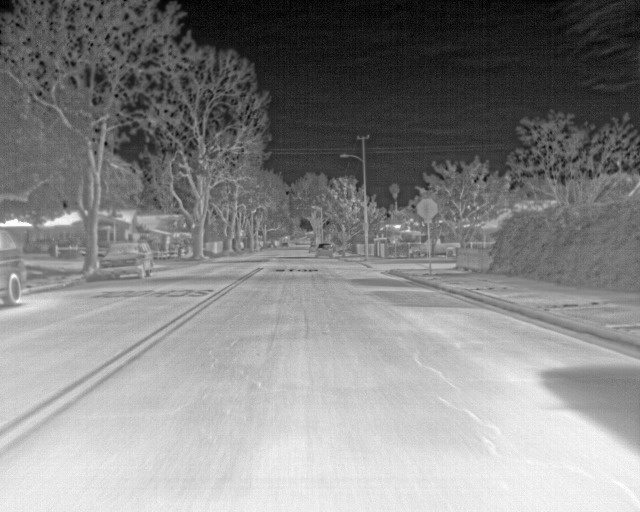vehicle: (98, 239, 155, 281), (1, 221, 25, 306)
